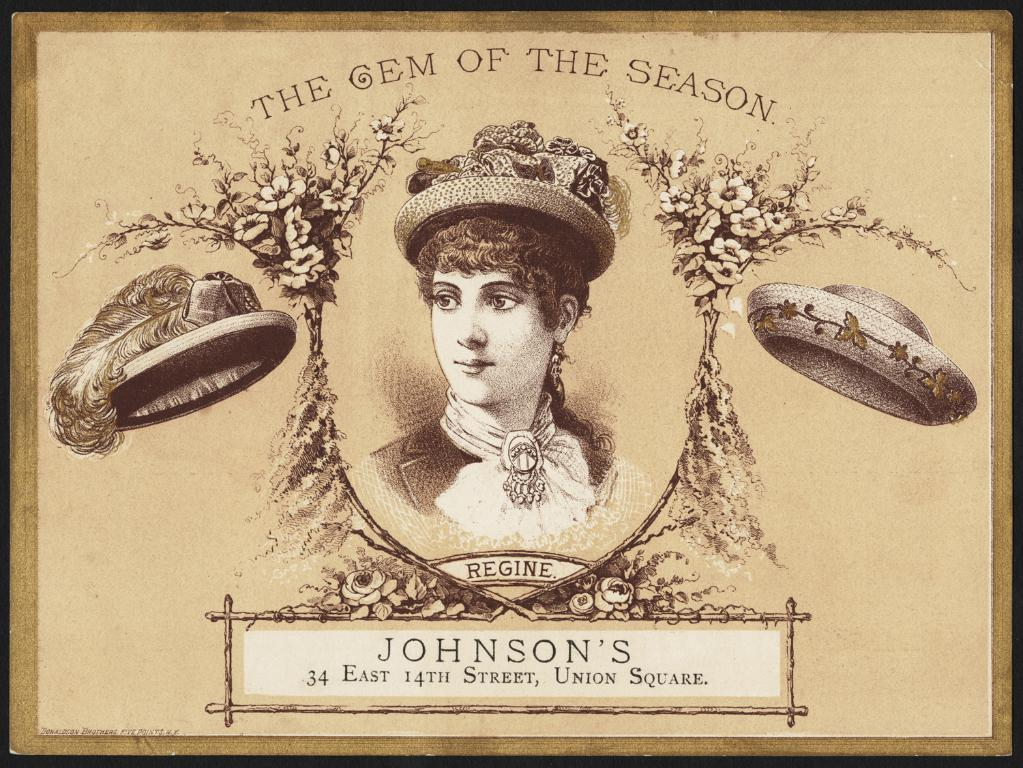Hat: (44, 262, 294, 457), (394, 118, 628, 283), (746, 280, 978, 427)
